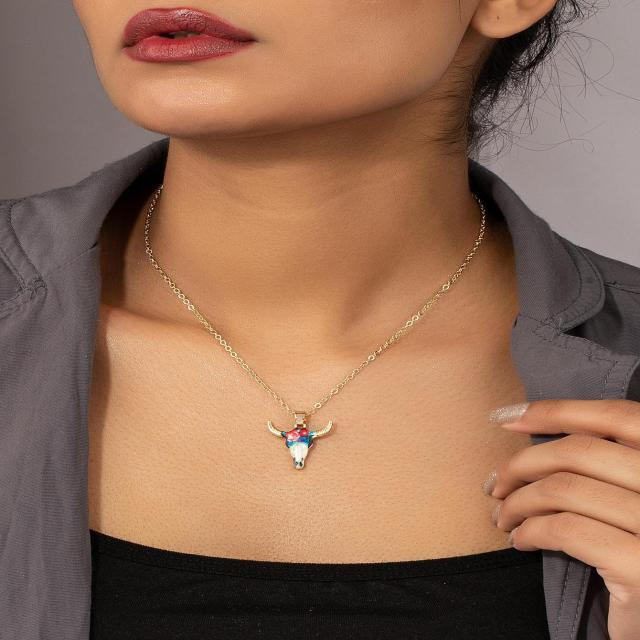Nail: (491, 403, 529, 423), (483, 474, 495, 496), (483, 473, 495, 495), (492, 504, 500, 526), (519, 406, 525, 412)
